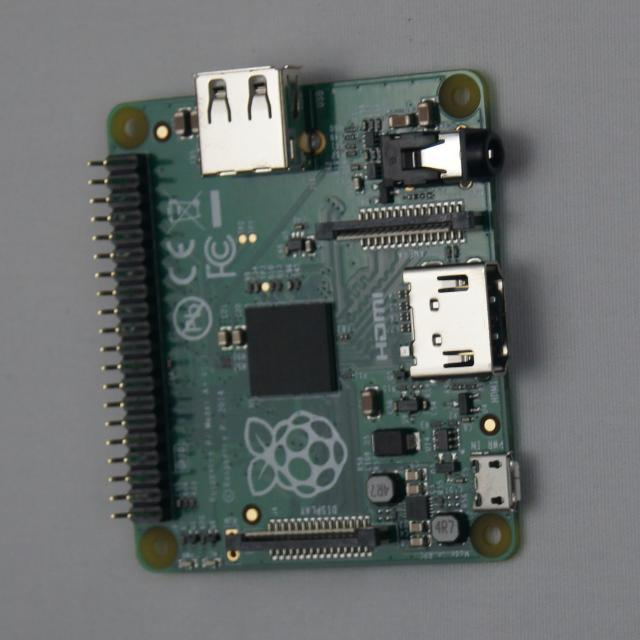Raspberry-Pi-1-A-: (91, 68, 521, 572)
